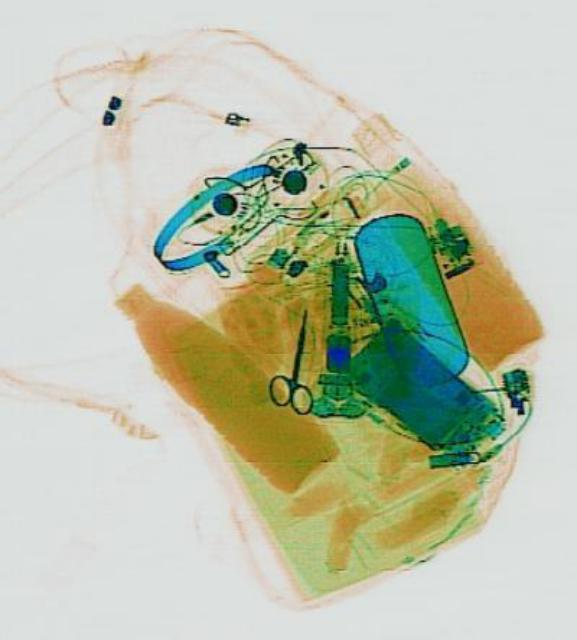Scissors: (262, 301, 327, 415)
